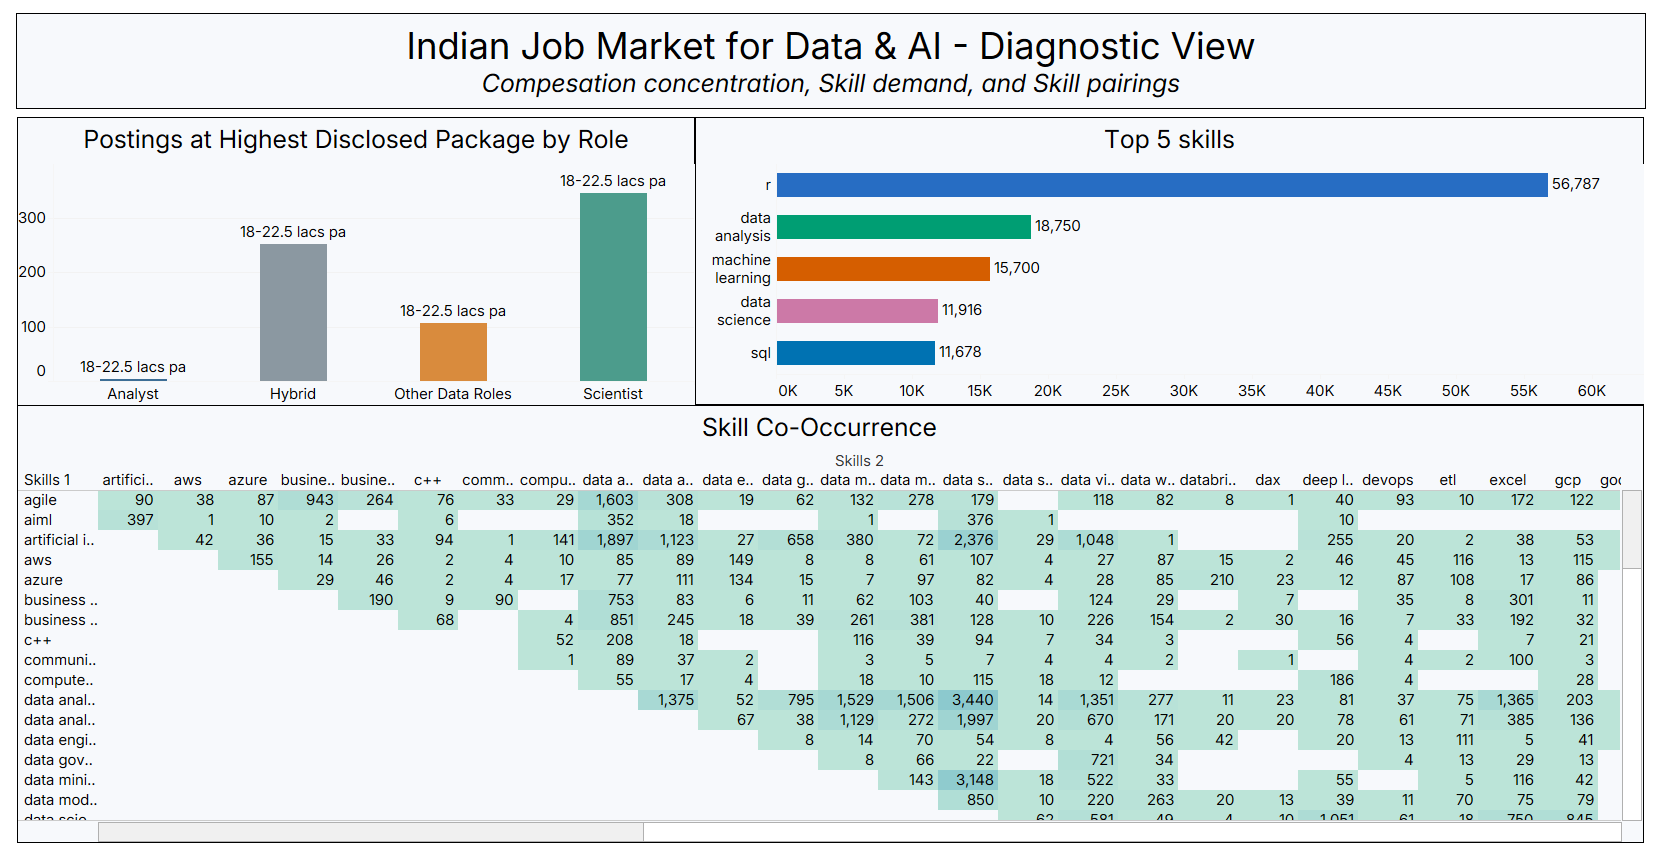

The page's visual inventory and layout, read from the dashboard file:
{"tool":"tableau","page":{"name":"Tier 2 Diagnostic","canvas":[1000,1000],"units":"permille","ordinal":1},"visuals":[{"type":"text","box":[7.3,11.1,988.3,122.2]},{"type":"worksheet","title":"Top packages","mark":"Automatic","rows":["posting_id"],"cols":["role_bucket"],"box":[10.5,137.5,408.9,339.6]},{"type":"worksheet","title":"Top 5 skills","mark":"Bar","rows":["skills_list (naukri_cleaned_skills_long.csv)"],"cols":["posting_id (naukri_cleaned_skills_long.csv)"],"box":[419.4,137.5,572.6,338.4]},{"type":"worksheet","title":"Skill Co-Occurrence","mark":"Square","rows":["skills_1"],"cols":["skills_2"],"box":[10.5,475.9,981.5,514.7]}]}

Visuals, with their boxes on the dashboard's canvas, which has no fixed pixel size, in thousandths of its width and height (x1, y1, x2, y2). These are canvas units, not pixel positions in the 1657x851 screenshot, which may show the page scaled, cropped or inside an application window:
text: [7,11,996,133]
"Top packages" worksheet: [10,138,419,477]
"Top 5 skills" worksheet (Bar marks): [419,138,992,476]
"Skill Co-Occurrence" worksheet (Square marks): [10,476,992,991]
